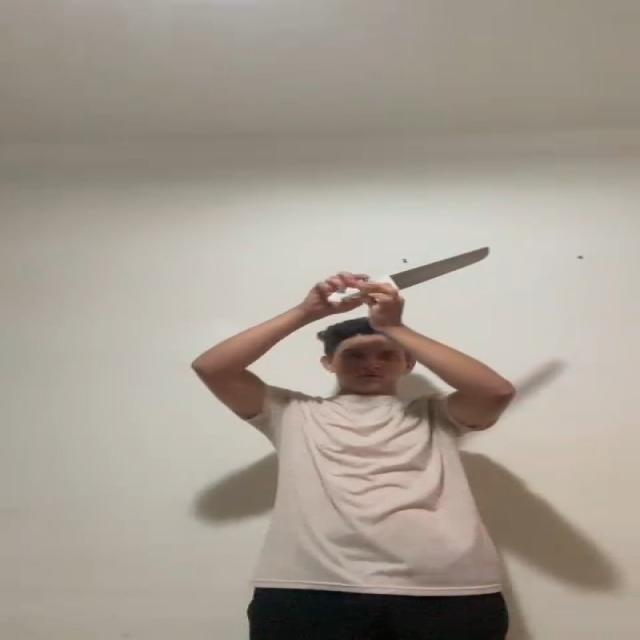knife: (391, 245, 491, 288)
